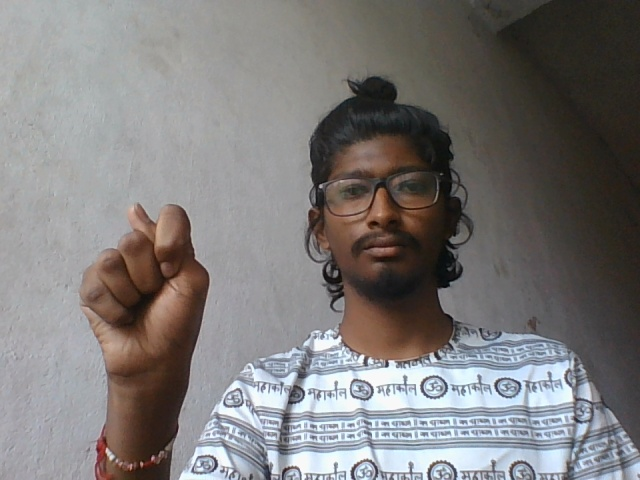Food: (70, 195, 215, 401)
